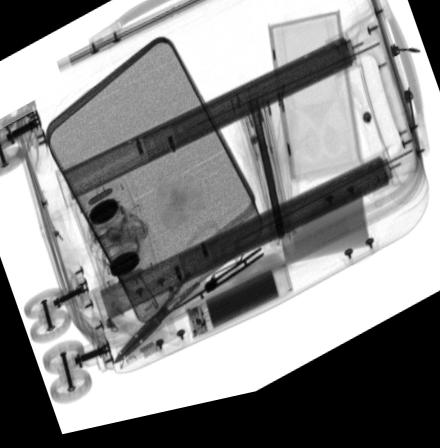Knife: (162, 254, 264, 328)
Powerbank: (183, 271, 293, 349)
Scissors: (112, 228, 253, 368)
